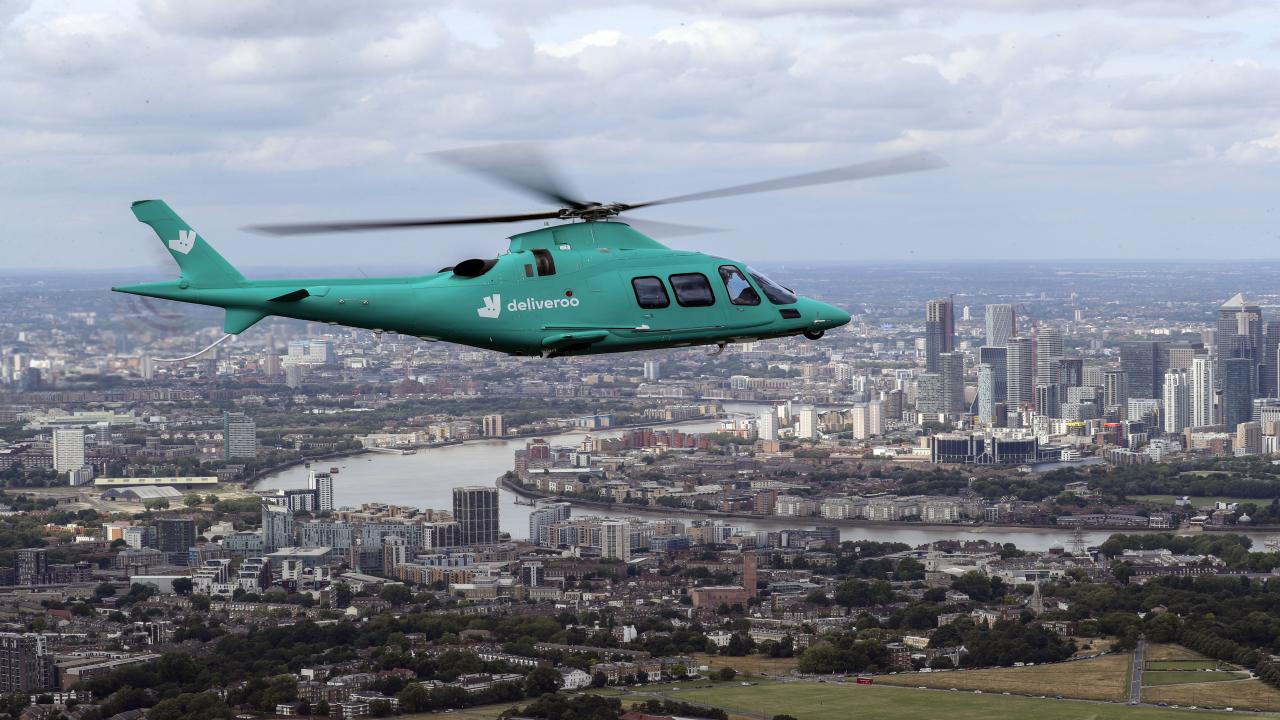Helicopter: (96, 90, 958, 418)
